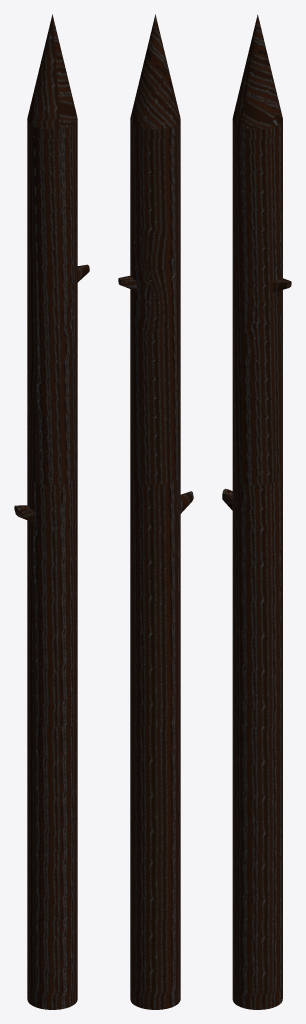
The model's file is Stick.fbx.
3 renders of one model, left to right at view 1: azimuth 30°, elevation 25°; view 2: azimuth 210°, elevation 25°; view 3: azimuth 330°, elevation 25°, orthographic.
Parts seen in each view (by area): view 1: Cylinder; view 2: Cylinder; view 3: Cylinder.
Part boxes in pixels (x1,y1,x2,y2): Cylinder: (14, 14, 89, 1009); Cylinder: (118, 14, 193, 1009); Cylinder: (222, 14, 291, 1009).
Bounding box in the file's own units: 0.0796 × 1.08 × 0.05.
